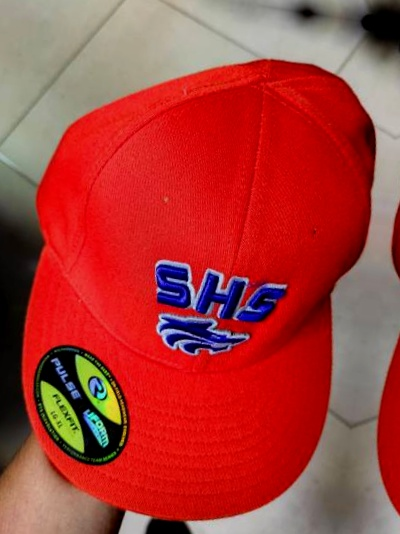Hat: (0, 12, 394, 534), (345, 71, 400, 534)
